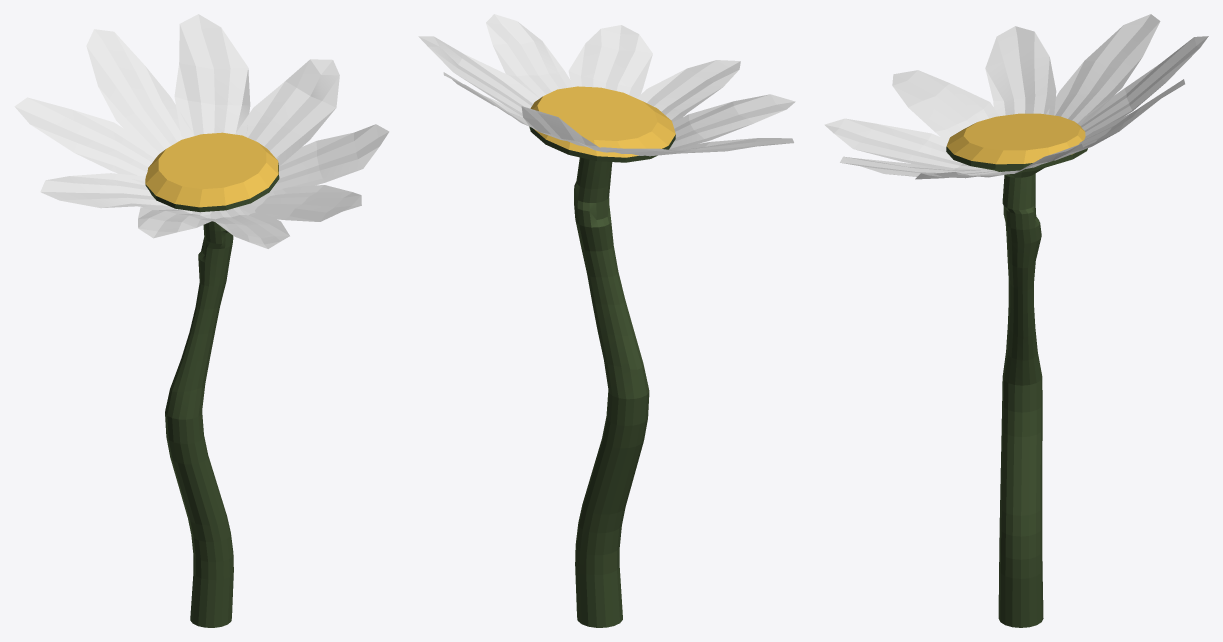
3 views of the same model, side by side, from view 1: azimuth 30°, elevation 25°; view 2: azimuth 150°, elevation 25°; view 3: azimuth 270°, elevation 25° (orthographic). The views are drawn at different scales.
Visible parts, largest first — view 1: Flower.001, Stem.001; view 2: Stem.001, Flower.001; view 3: Flower.001, Stem.001.
Part boxes in pixels (x1,y1,x2,y2): Flower.001: [14, 14, 389, 248]; Stem.001: [145, 132, 279, 627]; Stem.001: [529, 86, 675, 627]; Flower.001: [418, 14, 795, 156]; Flower.001: [824, 14, 1208, 179]; Stem.001: [946, 113, 1087, 627].
Bounding box in the file's own units: 534 × 858 × 527.
